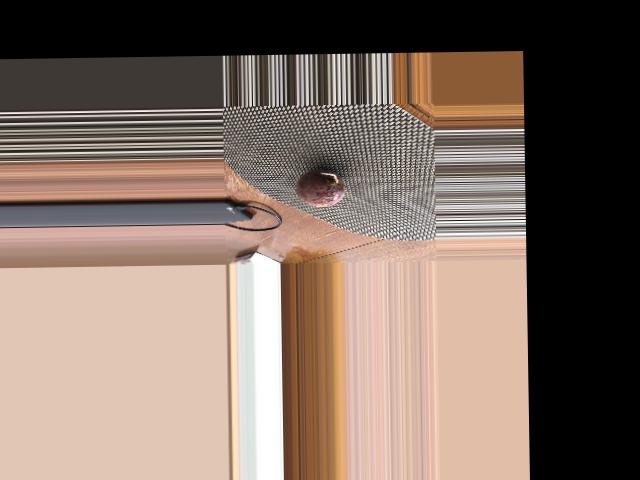beet: (295, 168, 344, 207)
